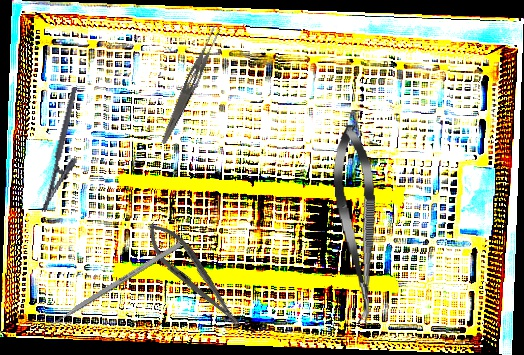Dressing Forceps: (158, 24, 224, 148)
Micro Scissor: (329, 123, 386, 326)
Needle Holder: (137, 214, 251, 337), (40, 86, 95, 217)
Pusher: (38, 241, 182, 335)
